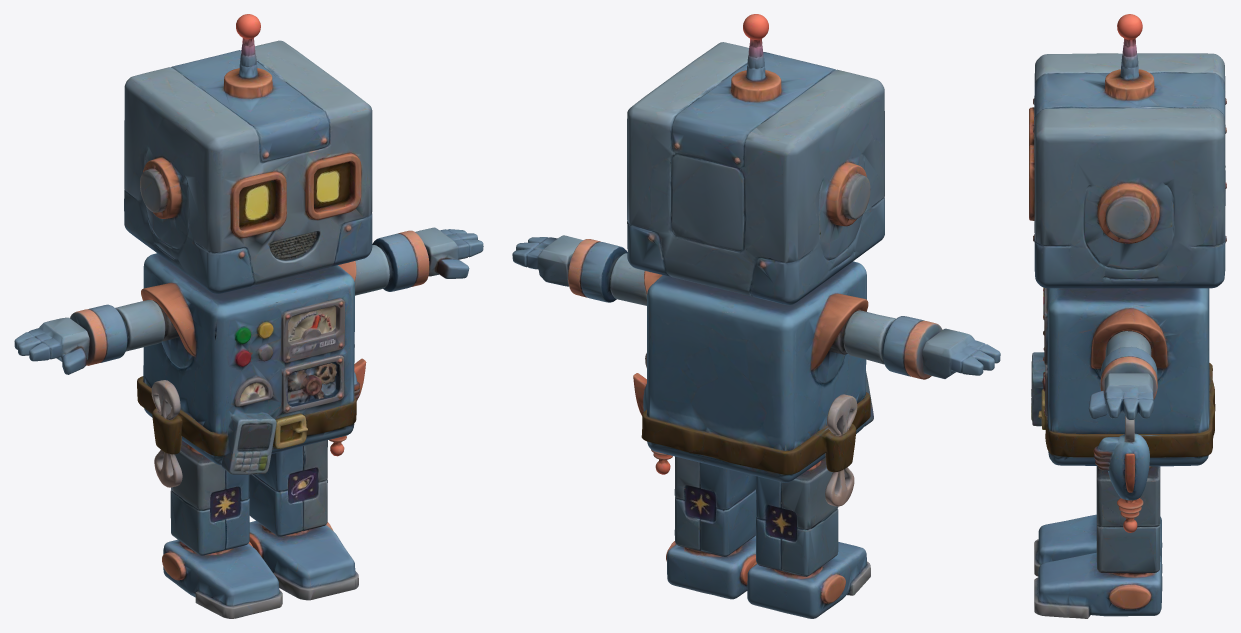
File: a3D-robot.glb
3 renders of one model, left to right at view 1: azimuth 30°, elevation 25°; view 2: azimuth 150°, elevation 25°; view 3: azimuth 270°, elevation 25°, orthographic. The views are drawn at different scales.
Parts seen in each view (by area): view 1: geometry_0; view 2: geometry_0; view 3: geometry_0.
Boxes of the visible parts, box(x1,y1,x2,y2) form: geometry_0: box(14, 14, 483, 618); geometry_0: box(512, 14, 1000, 618); geometry_0: box(1029, 14, 1226, 618).
Size of the model in its own units: 1.64 by 1.9 by 0.601.
Materials: 1 (1 with a texture image).
